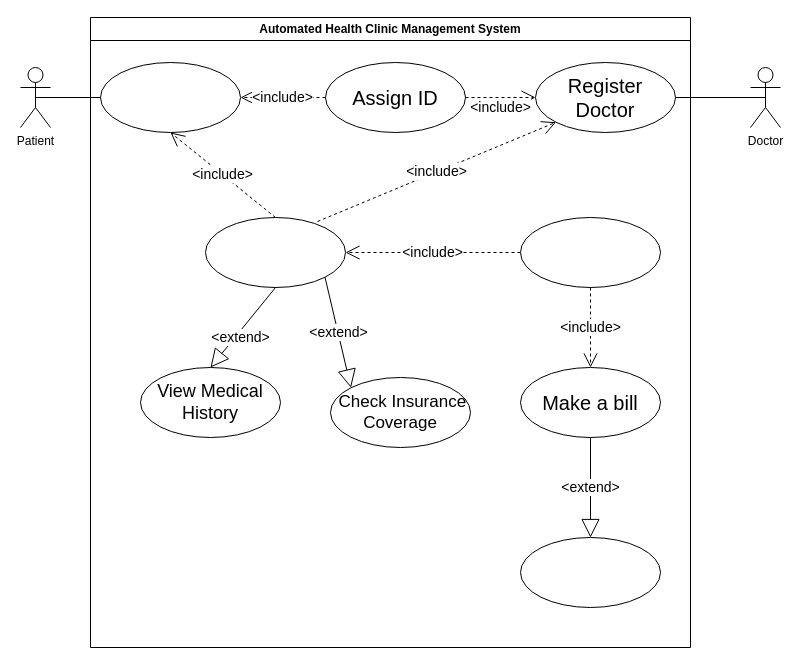
This 800x665 diagram has some shape labels left out. The shapes that lost their labels are listed below. From the top down, each one's centre as x and y in pixels, then its label:
At point (170, 97): "Register Patient".
At point (275, 252): "Book Appointment".
At point (590, 252): "Add Prescription".
At point (590, 572): "Contact Insurance Company".
